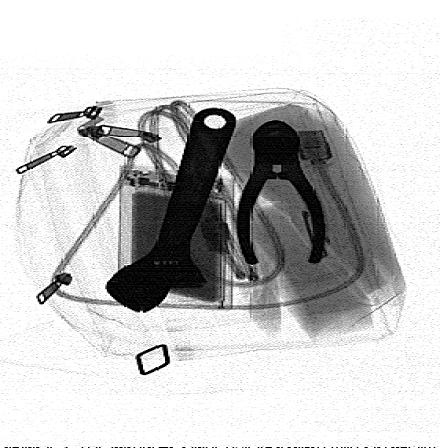Pliers: (233, 119, 330, 269)
Powerbank: (114, 166, 233, 308)
Wrench: (105, 106, 239, 313)
